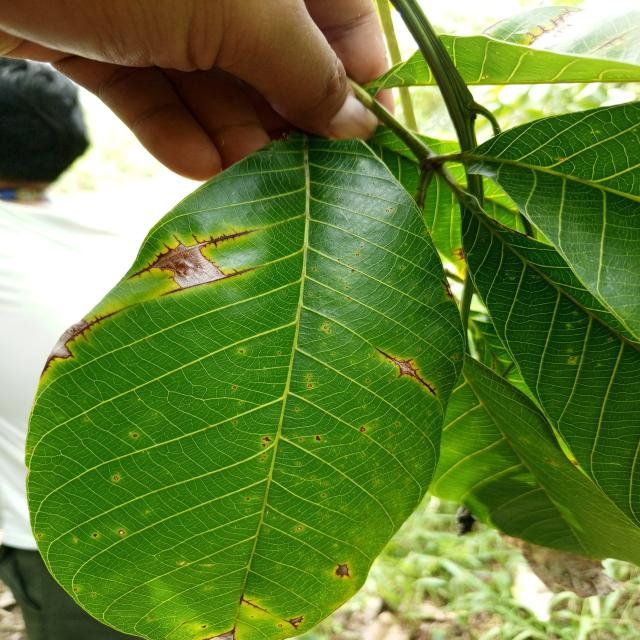Colletotrichum: (360, 427, 366, 432), (114, 476, 118, 481), (297, 526, 302, 530), (132, 434, 138, 437), (308, 384, 312, 388), (278, 624, 282, 627), (262, 444, 266, 447), (233, 386, 236, 389), (367, 379, 369, 382), (386, 210, 389, 212), (324, 326, 326, 329), (150, 618, 152, 620), (308, 375, 310, 376), (306, 379, 308, 380)
Corynespora: (125, 228, 260, 280), (42, 311, 118, 376), (374, 346, 436, 396), (526, 8, 584, 48), (240, 593, 270, 614), (225, 266, 258, 278), (282, 614, 304, 630), (600, 35, 624, 49), (160, 287, 184, 296)
Leaf-Blight: (209, 631, 234, 640), (336, 566, 347, 576)
